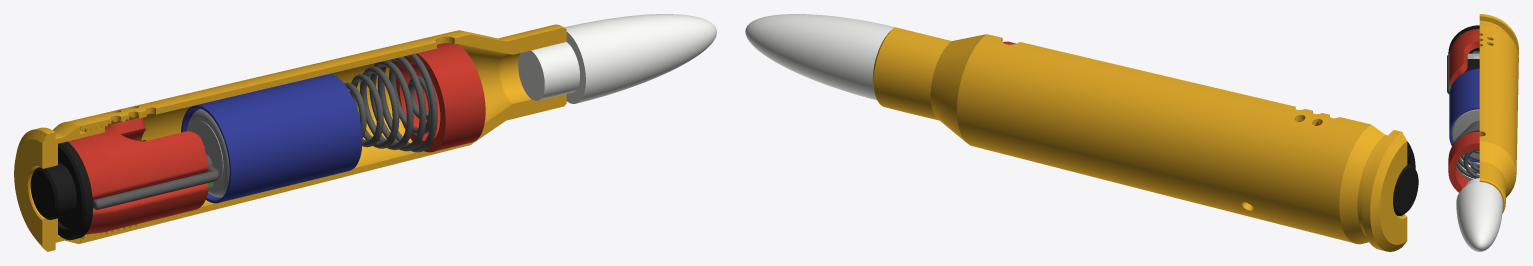
The model's file is AFTR_AR4.glb.
3 views of the same model, side by side, from view 1: azimuth 30°, elevation 25°; view 2: azimuth 150°, elevation 25°; view 3: azimuth 270°, elevation 25° (orthographic). The views are drawn at different scales.
Parts seen in each view (by area): view 1: node_id9, node_id115, node_id13, node_id21, node_id29, node_id25, node_id17, node_id7, node_id107, node_id121; view 2: node_id9, node_id13, node_id7, node_id17; view 3: node_id9, node_id13, node_id115, node_id21, node_id25, node_id29, node_id113, node_id7, node_id17, node_id39, node_id121, node_id35.
Part boxes in pixels (x1,y1,x2,y2): node_id9: [68, 24, 566, 243]; node_id115: [181, 73, 362, 203]; node_id13: [518, 14, 716, 103]; node_id21: [67, 117, 208, 234]; node_id29: [344, 53, 437, 152]; node_id25: [396, 43, 485, 152]; node_id17: [30, 141, 93, 240]; node_id7: [14, 121, 104, 251]; node_id107: [187, 108, 229, 197]; node_id121: [93, 164, 219, 209]; node_id9: [872, 27, 1369, 242]; node_id13: [745, 14, 894, 100]; node_id7: [1338, 124, 1407, 251]; node_id17: [1393, 141, 1418, 215]; node_id9: [1479, 23, 1518, 213]; node_id13: [1456, 178, 1502, 251]; node_id115: [1449, 69, 1479, 162]; node_id21: [1449, 29, 1479, 85]; node_id25: [1448, 131, 1483, 192]; node_id29: [1452, 120, 1479, 180]; node_id113: [1451, 109, 1479, 156]; node_id7: [1479, 14, 1518, 58]; node_id17: [1448, 25, 1479, 54]; node_id39: [1464, 59, 1479, 72]; node_id121: [1447, 54, 1451, 94]; node_id35: [1467, 53, 1479, 58].
Size of the model in its own units: 0.512 by 0.0856 by 0.0783.
Materials: 50 (50 with a texture image).
